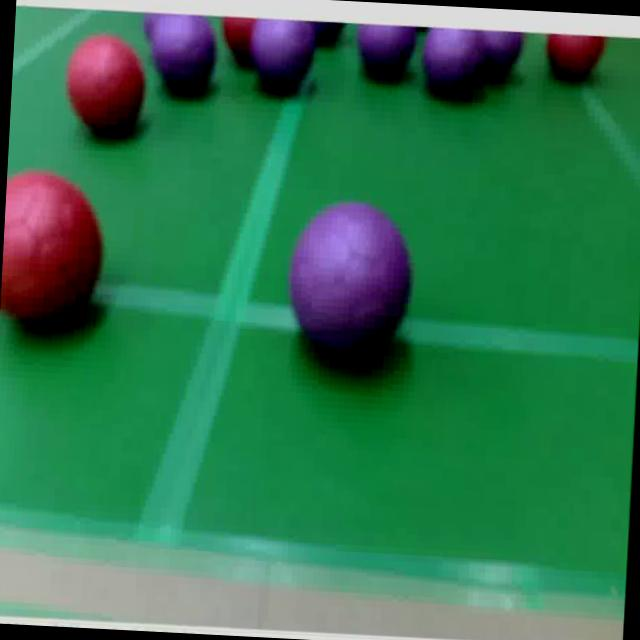purple_ball: (276, 194, 420, 370), (150, 12, 220, 94), (252, 21, 318, 94), (422, 29, 481, 100), (358, 25, 416, 81), (472, 31, 528, 80)
red_ball: (0, 170, 107, 328), (61, 30, 151, 142), (544, 36, 608, 86), (222, 18, 256, 66)
